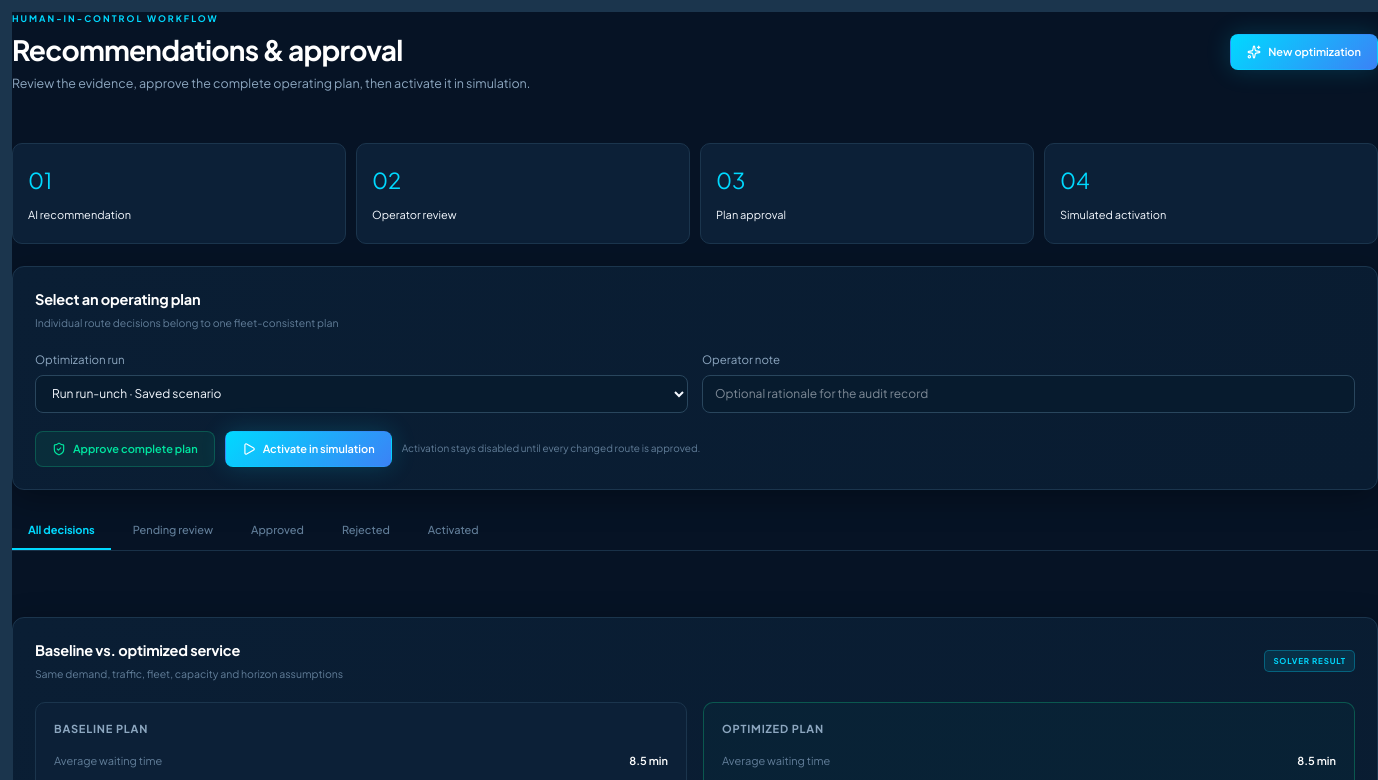
Test: Connected operating workflows › requires explicit plan approval before activating an unchanged scenario with no route recommendations
Check: the button "Activate in simulation" is disabled, box [225, 431, 392, 467]
Click the button "Approve complete plan": x=125, y=449 [35, 431, 215, 467]
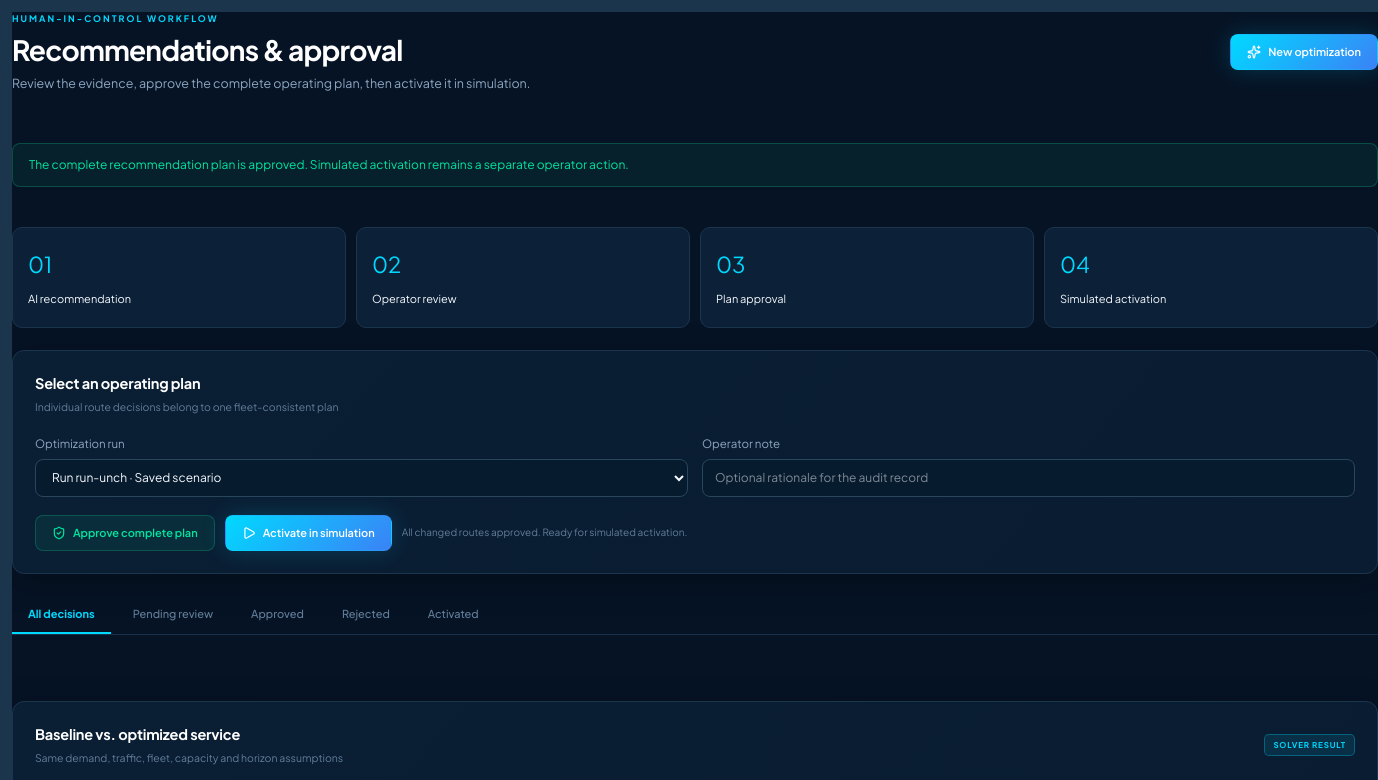
Check: the button "Activate in simulation" is enabled
Click the button "Activate in simulation": x=308, y=533 [225, 515, 392, 551]
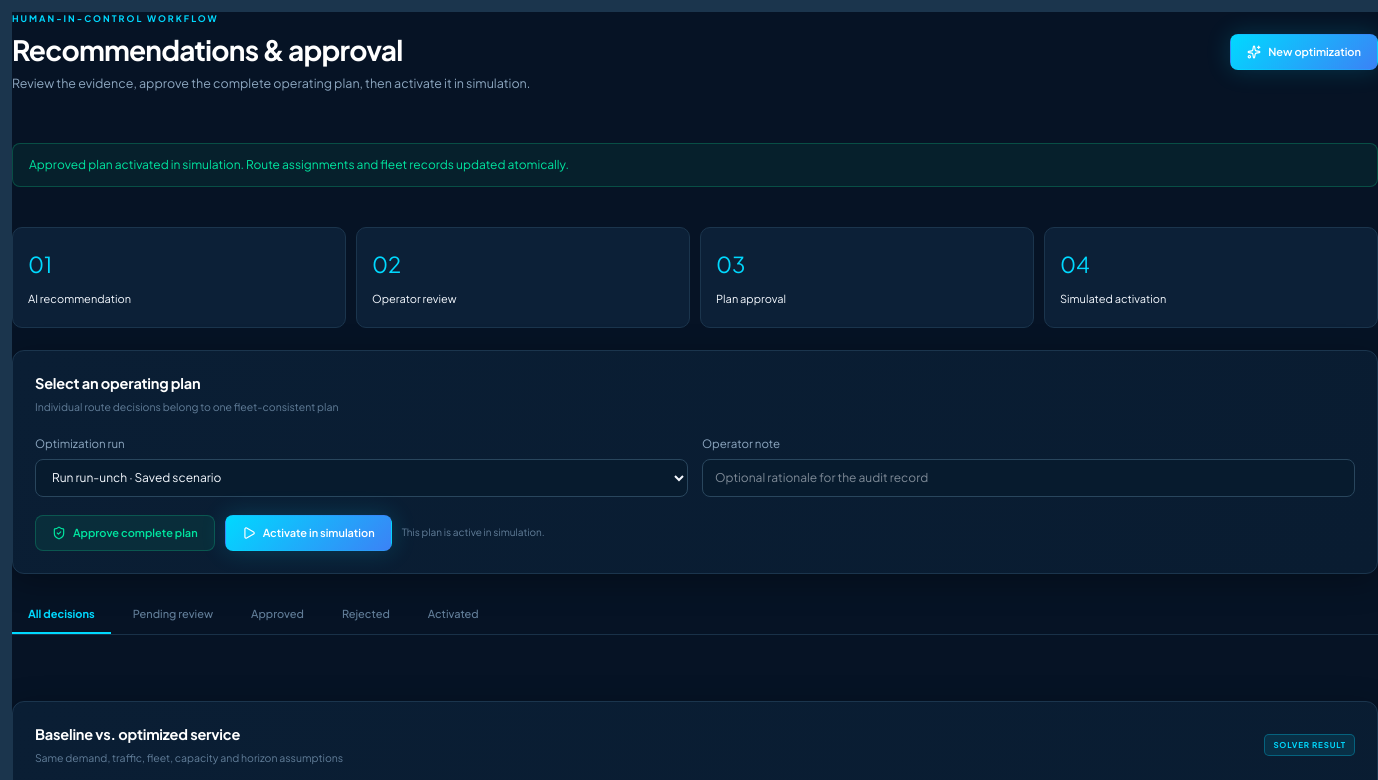
Check: the text "This plan is active in simulation." is shown, box [402, 525, 545, 540]
